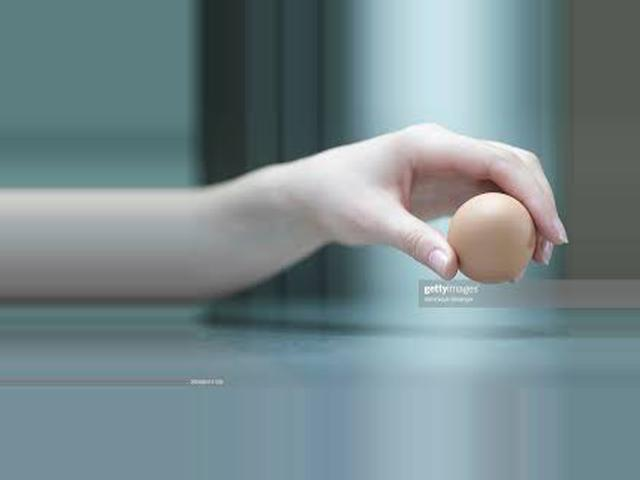egg: (446, 191, 536, 285)
